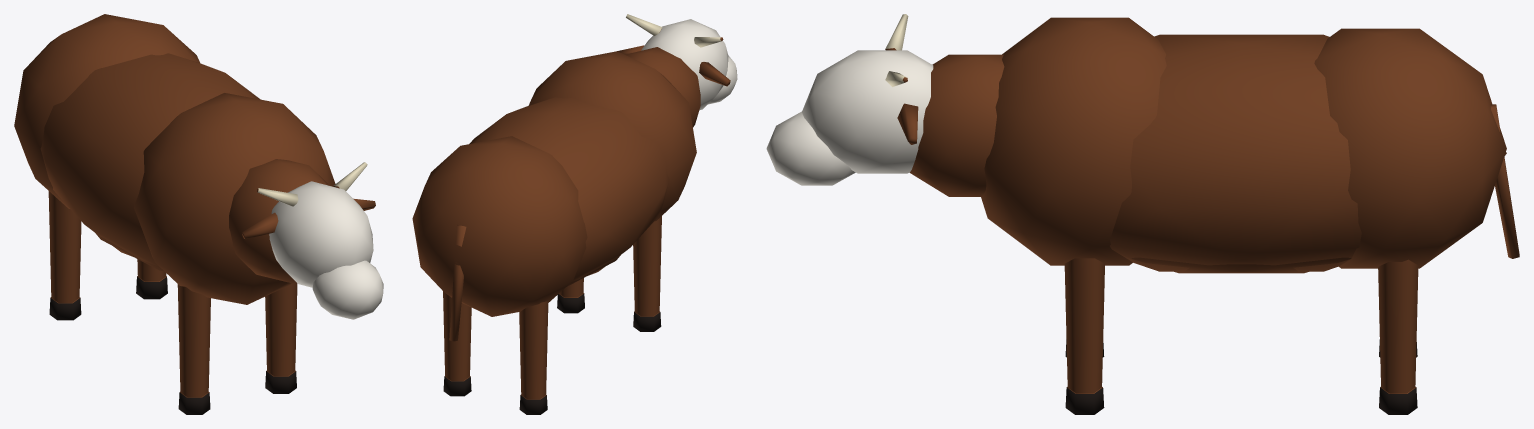
File: n-cow.glb
The picture shows the model from 3 angles, left to right: view 1: azimuth 30°, elevation 25°; view 2: azimuth 150°, elevation 25°; view 3: azimuth 270°, elevation 25°; orthographic projection. The views are drawn at different scales.
Parts seen in each view (by area): view 1: cow_body, cow_parts, cow_head; view 2: cow_body, cow_parts, cow_head; view 3: cow_body, cow_head, cow_parts.
Boxes of the visible parts, box(x1,y1,x2,y2) form: cow_body: box(14, 14, 335, 304); cow_parts: box(48, 162, 375, 414); cow_head: box(269, 181, 383, 319); cow_body: box(412, 47, 700, 316); cow_parts: box(443, 14, 730, 414); cow_head: box(641, 19, 737, 110); cow_body: box(909, 17, 1506, 273); cow_head: box(766, 50, 933, 185); cow_parts: box(885, 14, 1519, 414).
Bounding box in the file's own units: 1.05 × 1.57 × 2.98.
